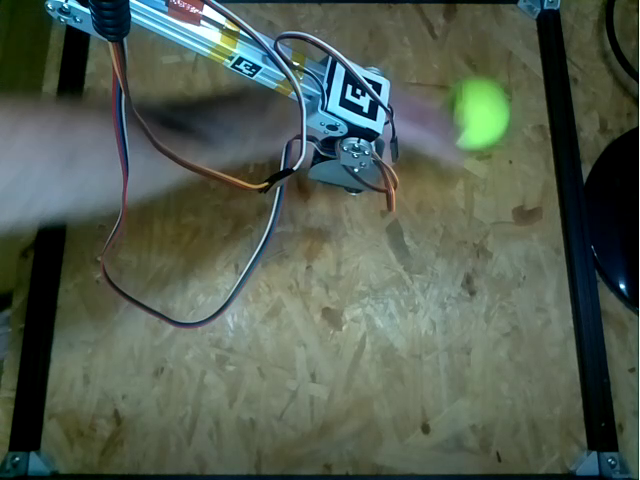tennis_ball: (443, 79, 513, 147)
